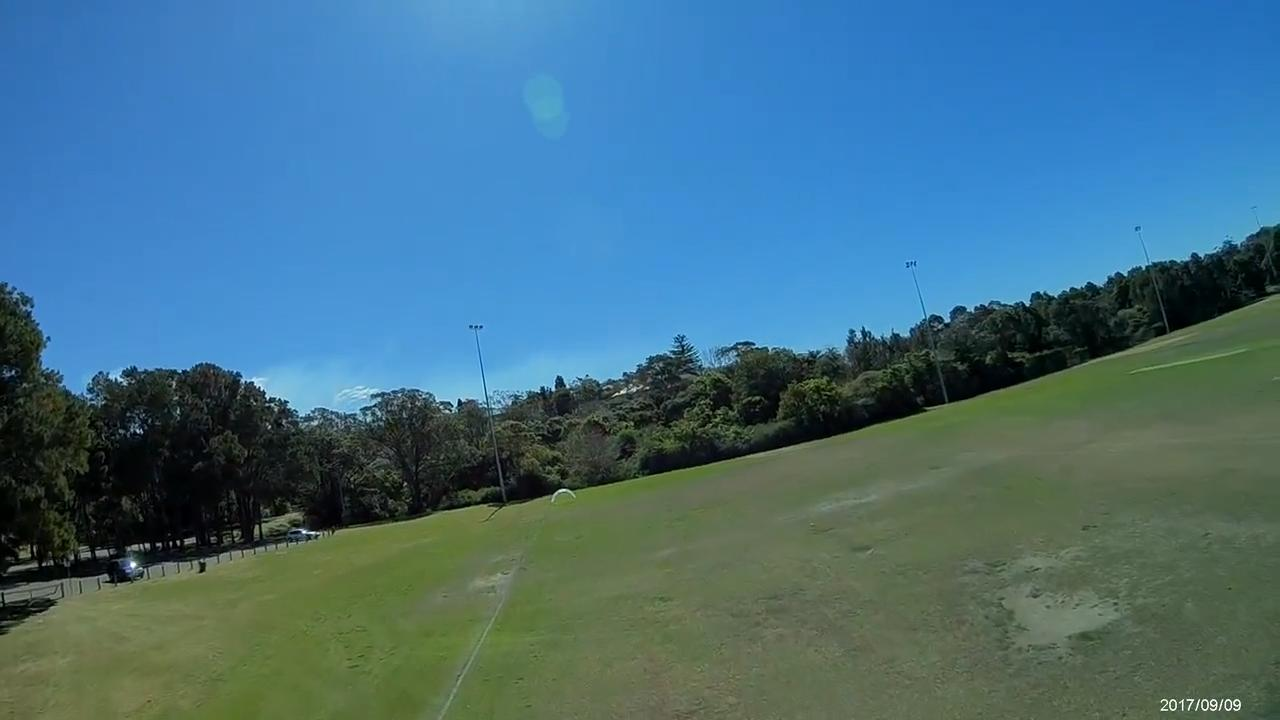gate: (549, 486, 581, 505)
